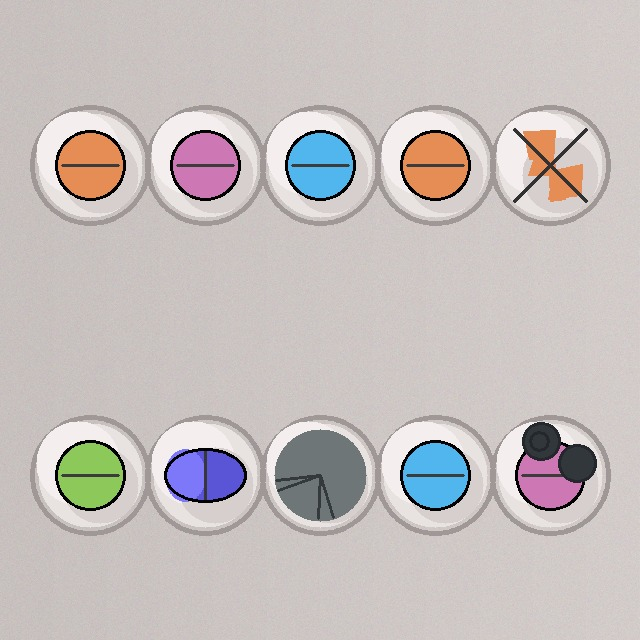broken: (488, 103, 612, 227)
empty: (258, 413, 382, 537)
stain: (488, 413, 612, 537)
